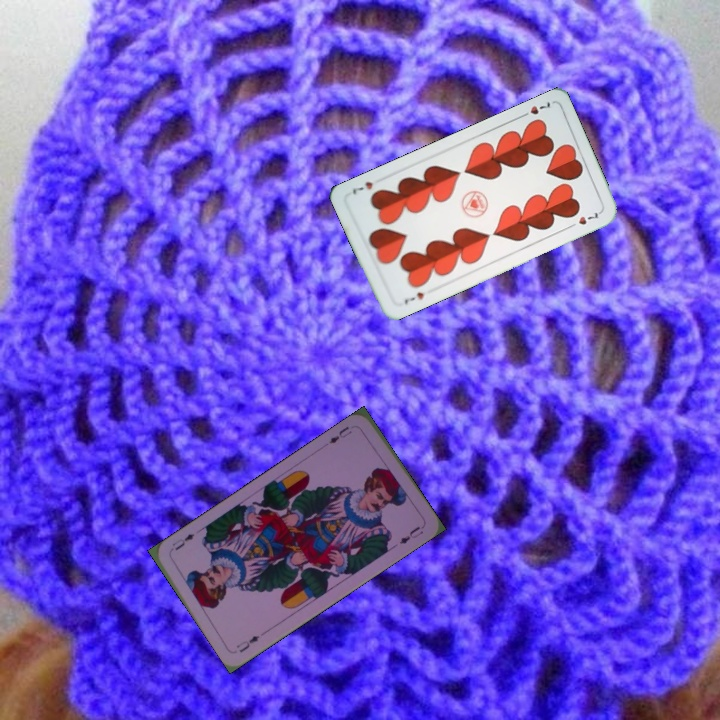EU: (325, 422, 355, 447), (232, 631, 262, 656)
H7: (516, 98, 553, 121), (400, 288, 426, 307)
